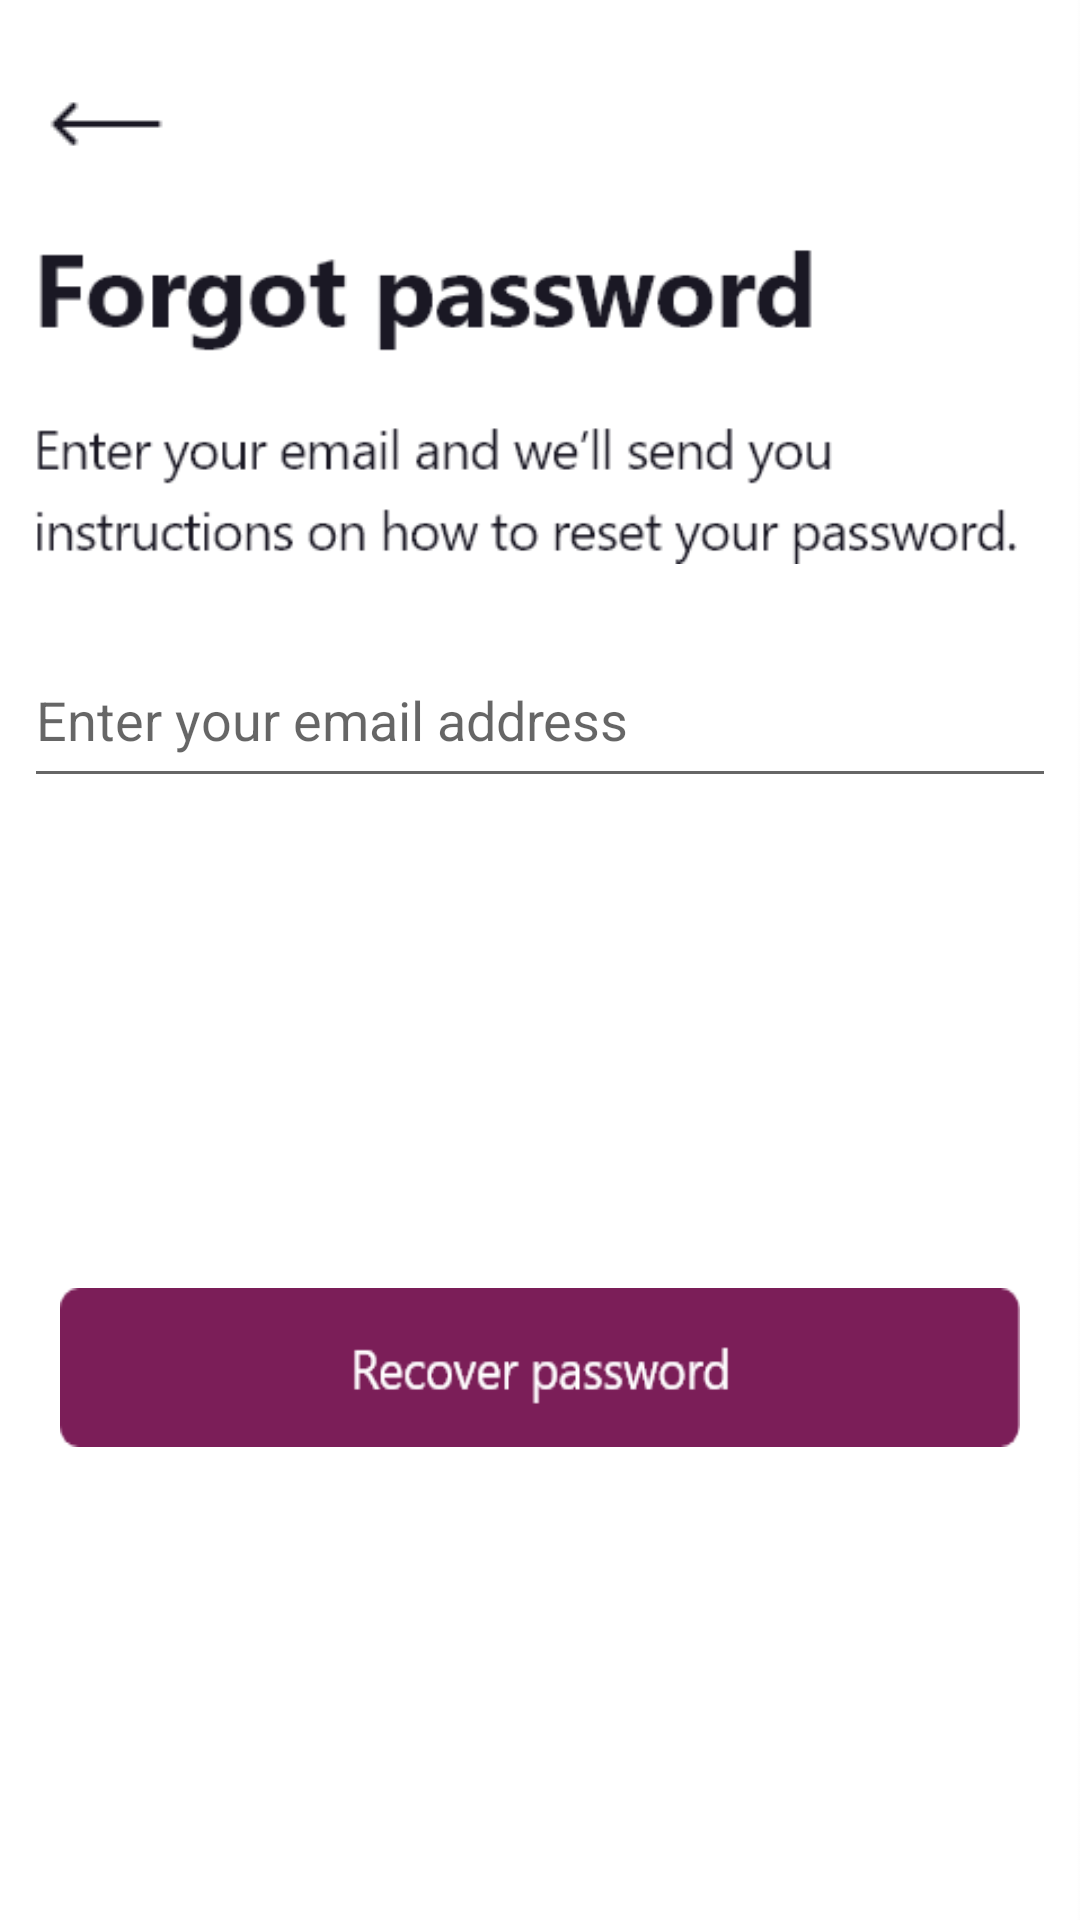

Point at icon controls on the screen. Image size 1080×1920, points as [x,y].
bckbutton: [106,124]
